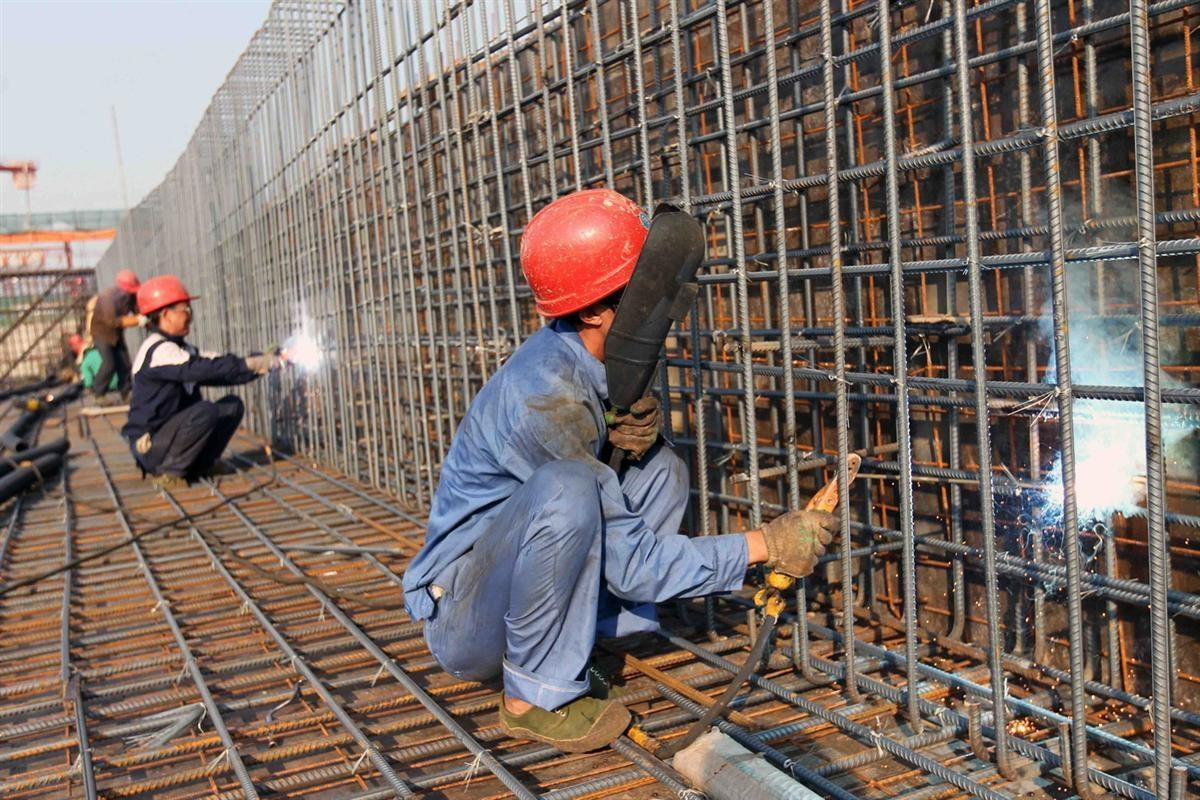helmet: (503, 184, 653, 322), (136, 273, 195, 318), (113, 265, 144, 290)
no_wear: (134, 344, 207, 464)
wear: (460, 357, 606, 679)
